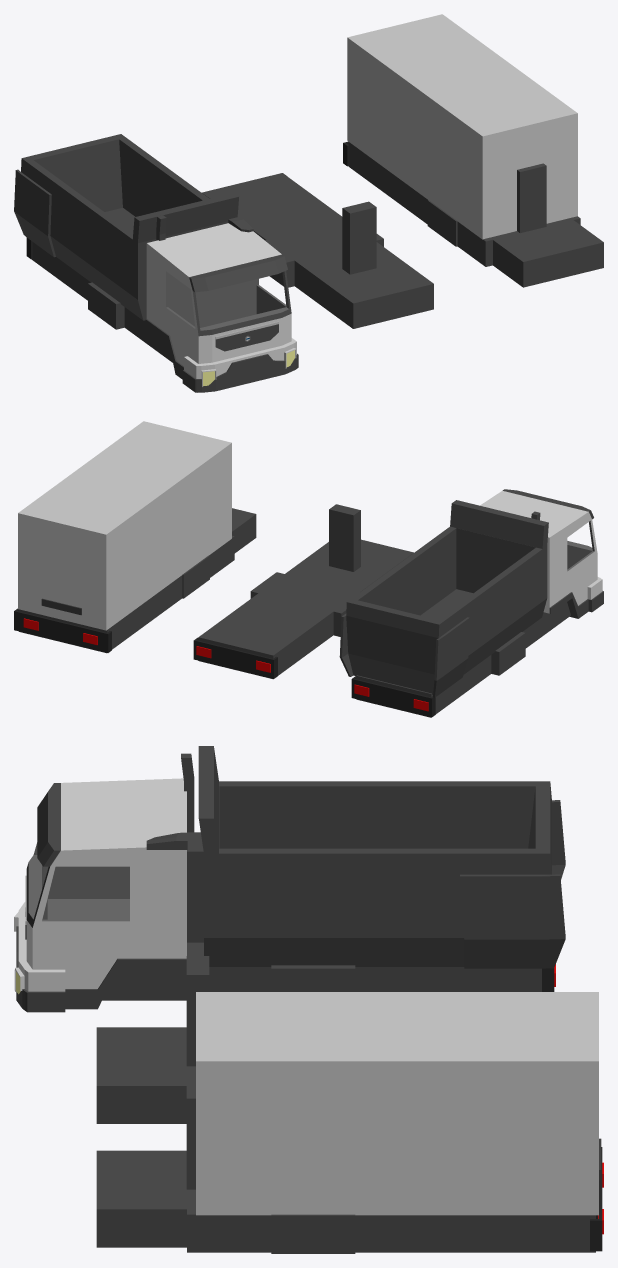
File: FMX 1.fbx
3 renders of one model, top to bottom at view 1: azimuth 30°, elevation 25°; view 2: azimuth 150°, elevation 25°; view 3: azimuth 270°, elevation 25°, orthographic. The views are drawn at different scales.
Visible parts, largest first — view 1: Cube.002, Cube.001, Cube, Cube.003; view 2: Cube.002, Cube.001, Cube.003, Cube; view 3: Cube.002, Cube.001, Cube, Cube.003.
Boxes of the visible parts, x1=… form: Cube.002: x1=343, y1=14, x2=603, y2=287; Cube.001: x1=14, y1=134, x2=238, y2=362; Cube: x1=145, y1=215, x2=298, y2=392; Cube.003: x1=202, y1=173, x2=433, y2=328; Cube.002: x1=14, y1=421, x2=256, y2=653; Cube.001: x1=339, y1=500, x2=570, y2=717; Cube.003: x1=193, y1=504, x2=413, y2=679; Cube: x1=480, y1=489, x2=603, y2=618; Cube.002: x1=96, y1=992, x2=603, y2=1253; Cube.001: x1=102, y1=746, x2=565, y2=1000; Cube: x1=14, y1=753, x2=194, y2=1012; Cube.003: x1=96, y1=956, x2=209, y2=1123.
Bounding box in the file's own units: 1303 × 370 × 1009.
Materials: 7 (1 with a texture image).
